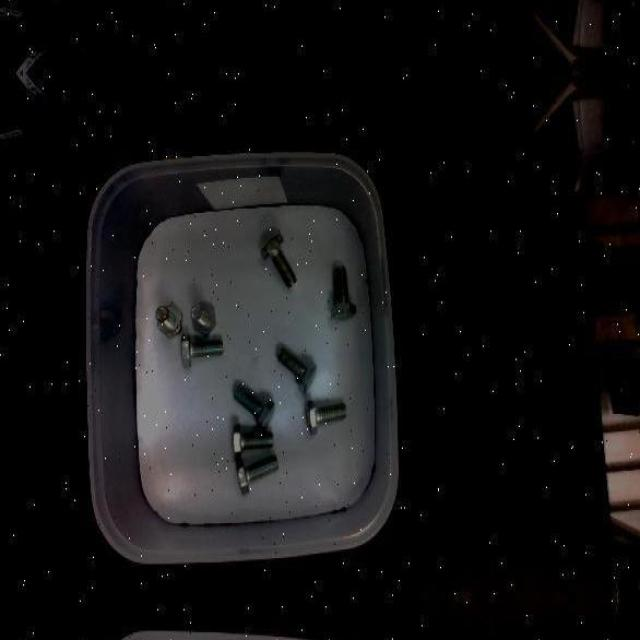screw: (261, 232, 297, 286), (234, 387, 275, 433), (277, 347, 318, 393), (236, 453, 279, 494), (181, 333, 224, 368), (233, 425, 274, 460), (306, 400, 347, 434), (331, 266, 356, 320), (156, 304, 184, 338), (191, 299, 216, 336)
